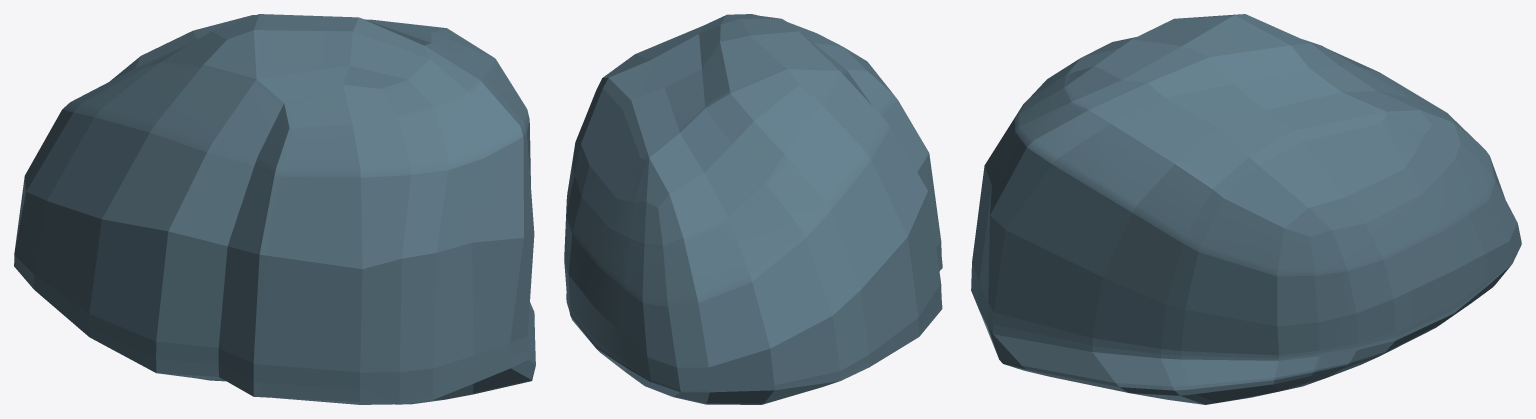
The model's file is ROCKS_ROUND_E_PRIM.fbx.
3 views of the same model, side by side, from view 1: azimuth 30°, elevation 25°; view 2: azimuth 150°, elevation 25°; view 3: azimuth 270°, elevation 25° (orthographic). The views are drawn at different scales.
Parts seen in each view (by area): view 1: ROCKSROUNDE_PRIM; view 2: ROCKSROUNDE_PRIM; view 3: ROCKSROUNDE_PRIM.
Boxes of the visible parts, x1=… form: ROCKSROUNDE_PRIM: x1=14, y1=14, x2=535, y2=404; ROCKSROUNDE_PRIM: x1=564, y1=14, x2=942, y2=404; ROCKSROUNDE_PRIM: x1=971, y1=14, x2=1521, y2=404.
Size of the model in its own units: 18.75 by 14.76 by 24.01.
